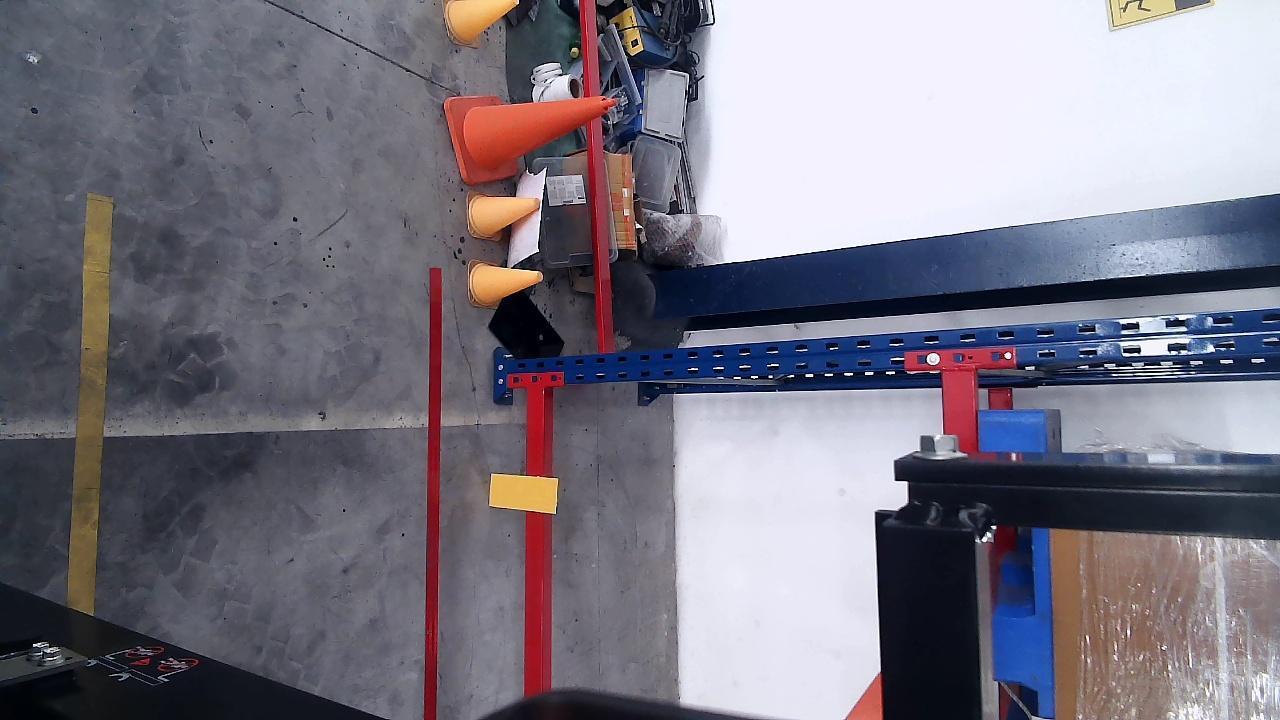h_rack: (522, 386, 550, 696)
orange_strip: (488, 472, 556, 513)
red_line: (425, 266, 442, 717)
yellow_line: (67, 191, 113, 616)
